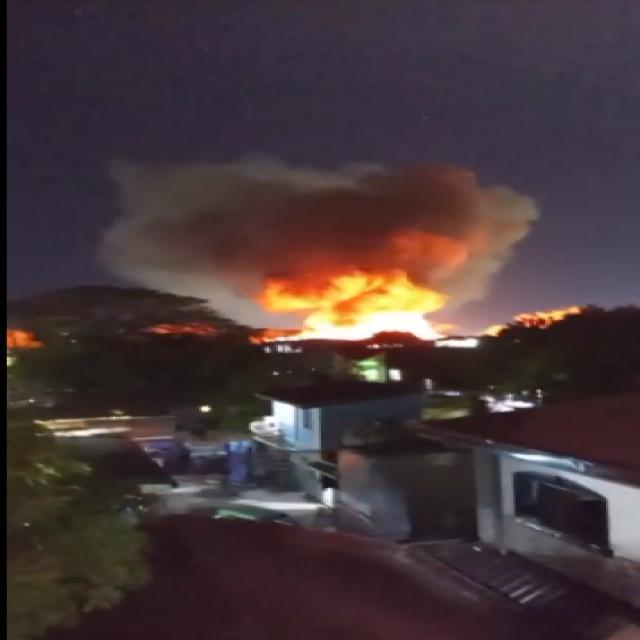Fire: (302, 309, 444, 340)
Smoke: (102, 153, 538, 321)
